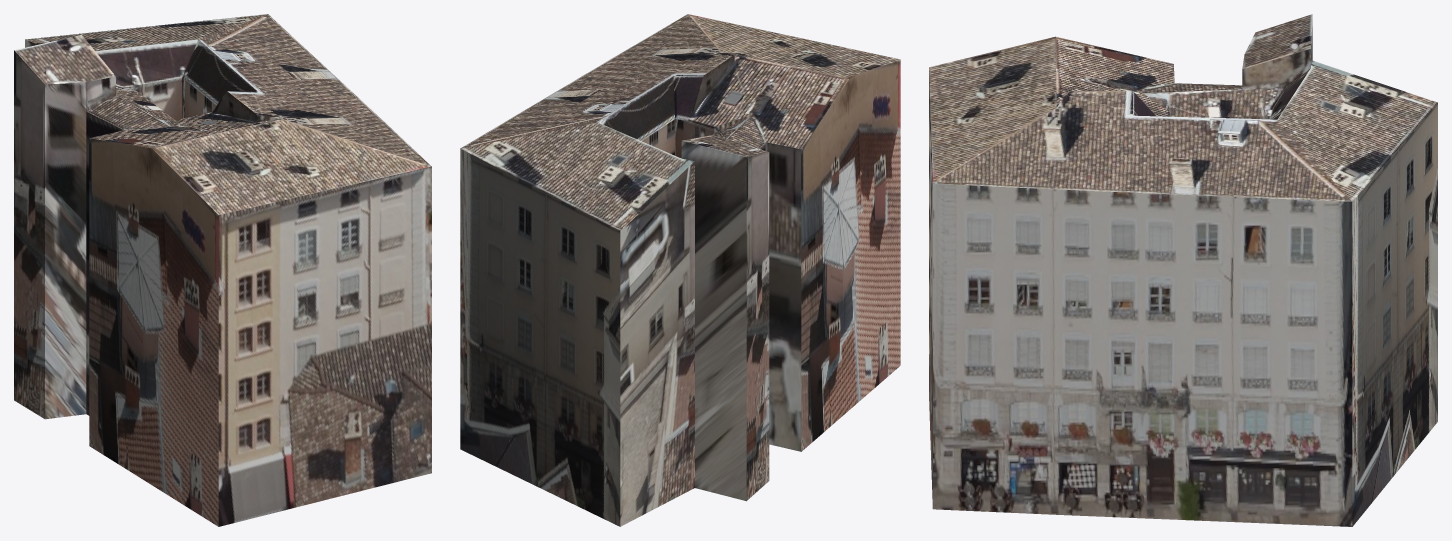
The picture shows the model from 3 angles, left to right: view 1: azimuth 30°, elevation 25°; view 2: azimuth 150°, elevation 25°; view 3: azimuth 270°, elevation 25°; orthographic projection. The views are drawn at different scales.
Visible parts, largest first — view 1: Z_UP; view 2: Z_UP; view 3: Z_UP.
Boxes of the visible parts, bbox=[...] form: Z_UP: bbox=[14, 14, 431, 526]; Z_UP: bbox=[460, 14, 900, 526]; Z_UP: bbox=[929, 14, 1437, 526].
Size of the model in its own units: 19.25 by 23.62 by 29.31.
Materials: 2 (1 with a texture image).
